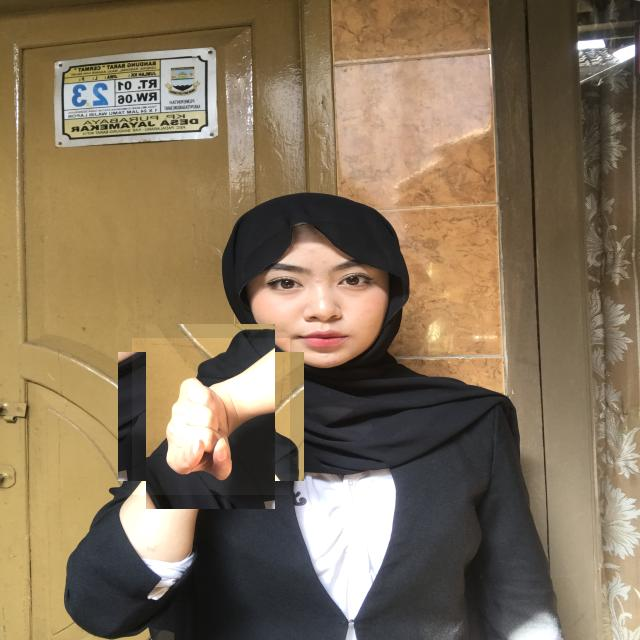kamu: (132, 338, 290, 495)
